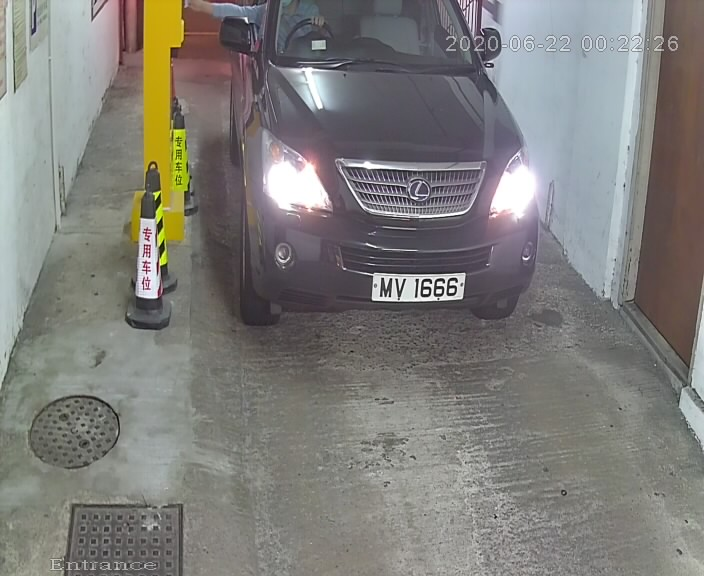privatecar: (206, 1, 560, 368)
